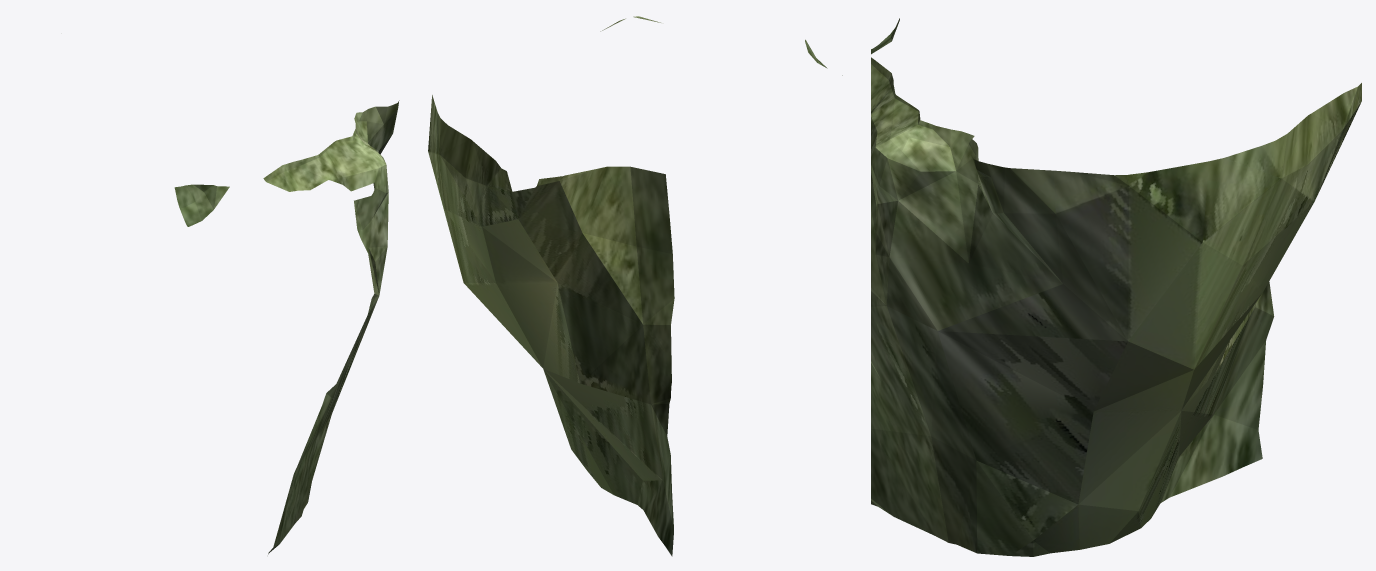
3 views of the same model, side by side, from view 1: azimuth 30°, elevation 25°; view 2: azimuth 150°, elevation 25°; view 3: azimuth 270°, elevation 25° (orthographic). The views are drawn at different scales.
Size of the model in its own units: 2.3 by 2.95 by 2.95.
3 materials, 3 textured.
